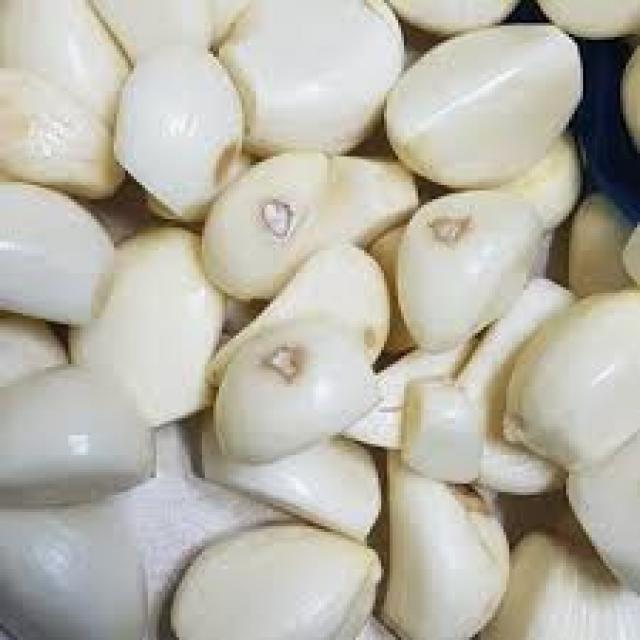garlic: (25, 29, 558, 506)
